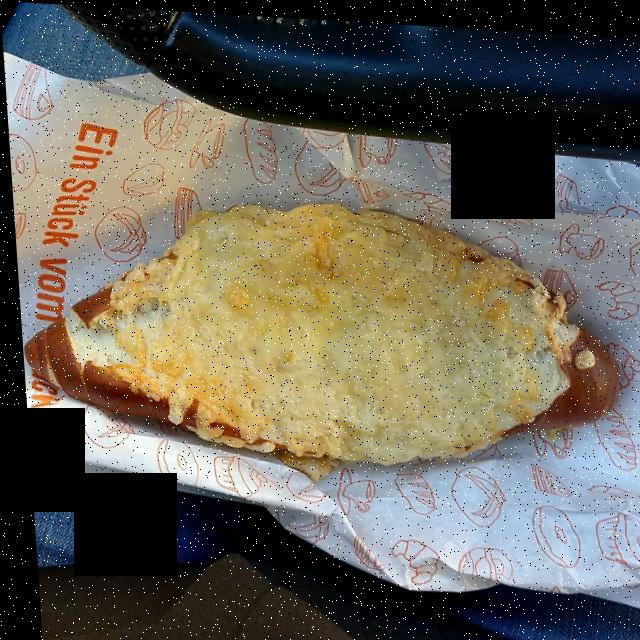cheese: (103, 205, 566, 437)
